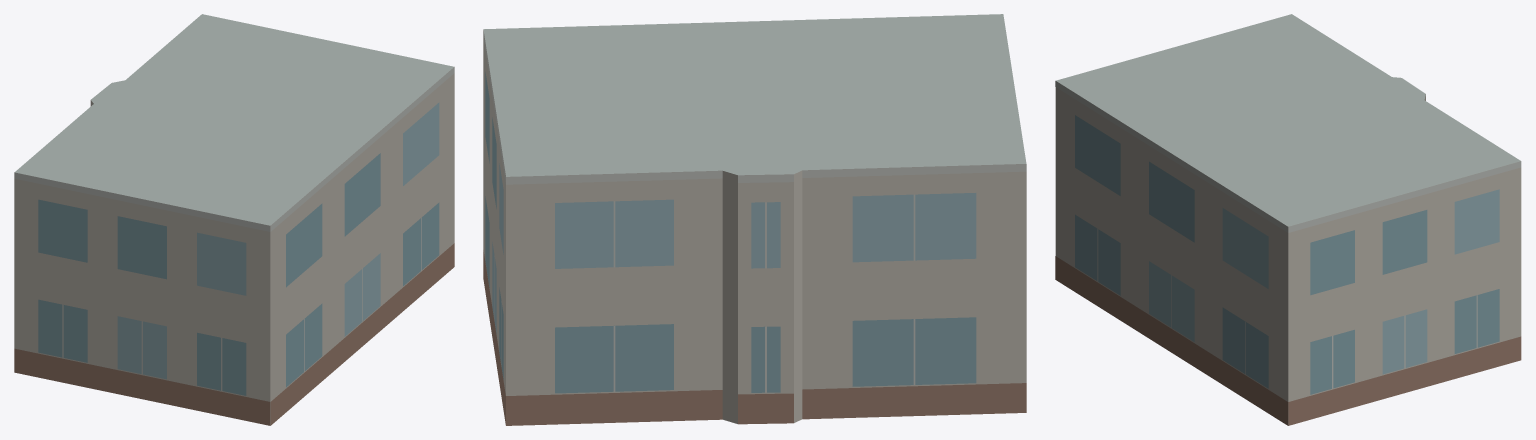
File: survey-upis-32624878.glb
3 renders of one model, left to right at view 1: azimuth 30°, elevation 25°; view 2: azimuth 150°, elevation 25°; view 3: azimuth 270°, elevation 25°, orthographic. The views are drawn at different scales.
Parts seen in each view (by area): view 1: survey-upis-32624878.tmp; view 2: survey-upis-32624878.tmp; view 3: survey-upis-32624878.tmp.
Boxes of the visible parts, x1=… form: survey-upis-32624878.tmp: x1=14, y1=14, x2=454, y2=425; survey-upis-32624878.tmp: x1=483, y1=14, x2=1026, y2=425; survey-upis-32624878.tmp: x1=1055, y1=14, x2=1521, y2=425.
Size of the model in its own units: 17.89 by 7.8 by 16.55.
